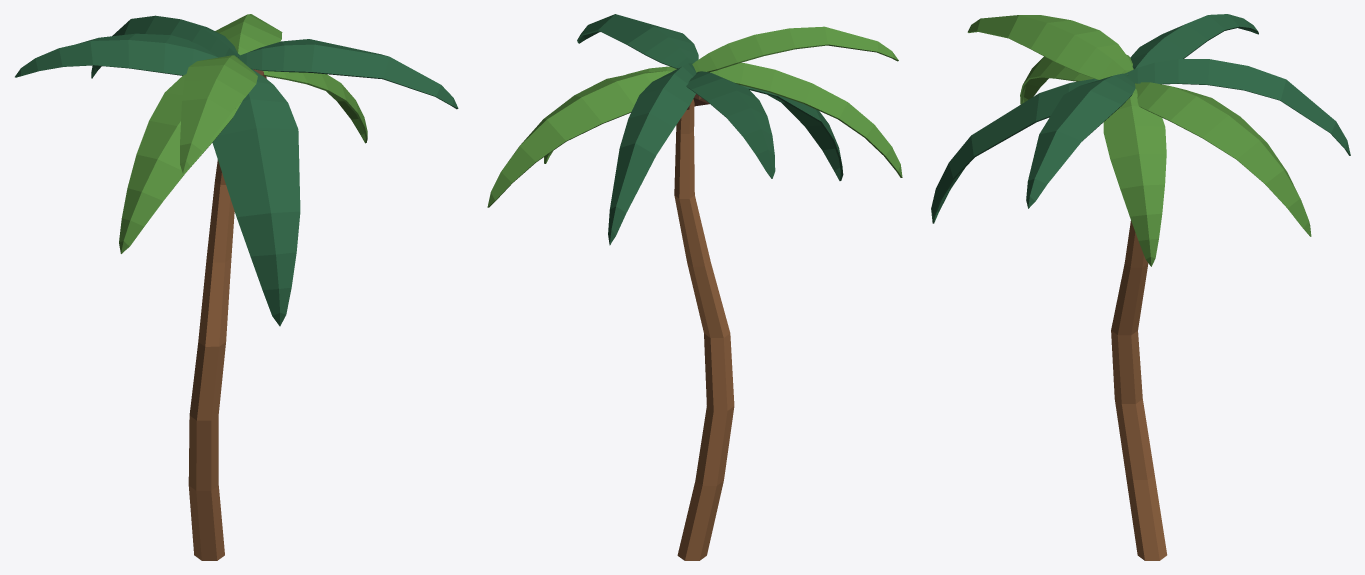
Rendered from PalmTree_4.glb.
3 renders of one model, left to right at view 1: azimuth 30°, elevation 25°; view 2: azimuth 150°, elevation 25°; view 3: azimuth 270°, elevation 25°, orthographic. The views are drawn at different scales.
Parts seen in each view (by area): view 1: PalmTree_4_Cylinder.036; view 2: PalmTree_4_Cylinder.036; view 3: PalmTree_4_Cylinder.036.
Part boxes in pixels (left/top/right/bottom): PalmTree_4_Cylinder.036: left=15, top=14, right=458, bottom=560; PalmTree_4_Cylinder.036: left=487, top=14, right=902, bottom=560; PalmTree_4_Cylinder.036: left=931, top=14, right=1350, bottom=560.
Size of the model in its own units: 2.34 by 3.47 by 2.59.
